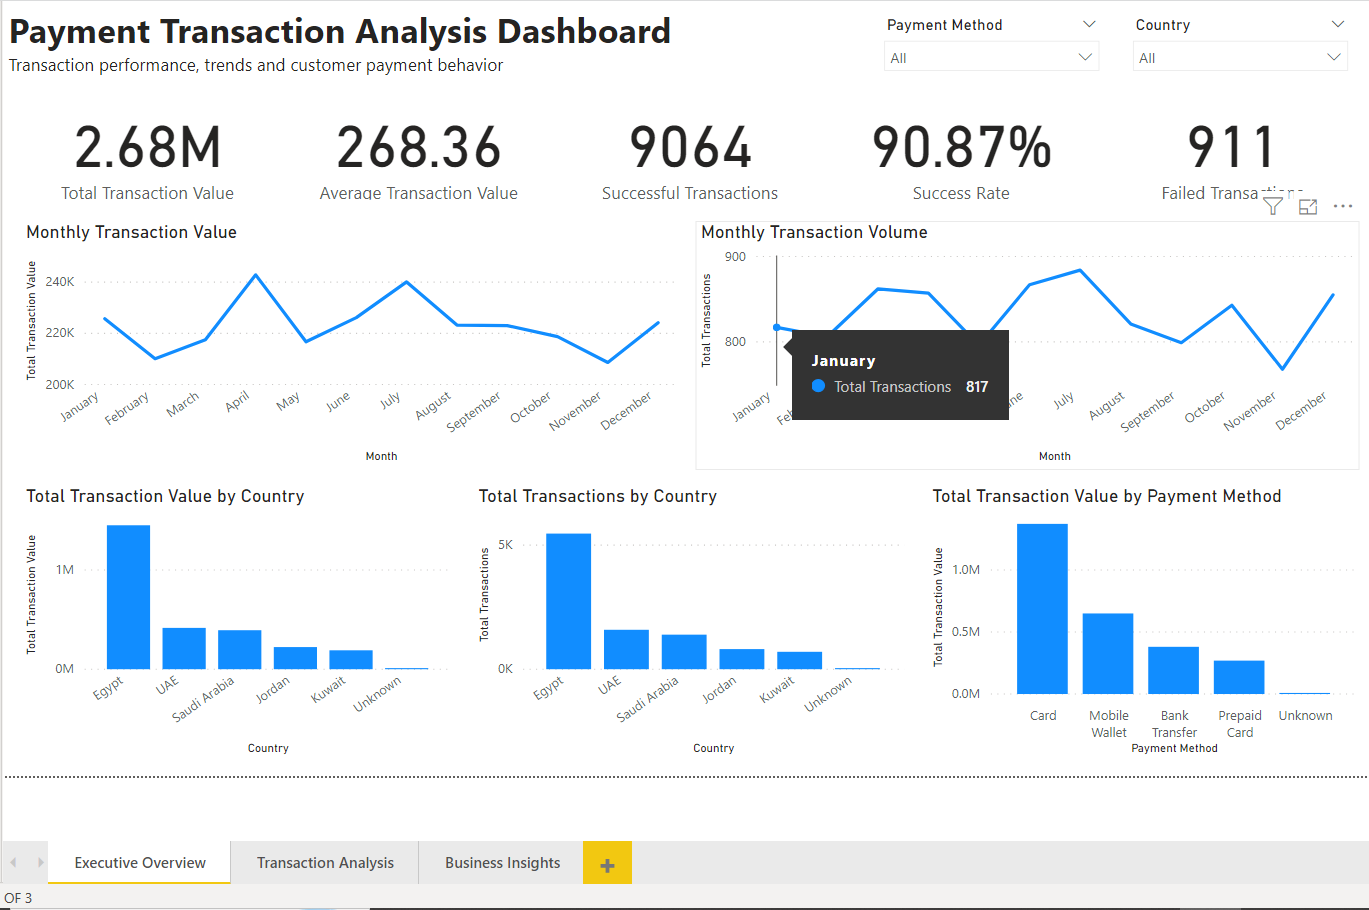

The page's visual inventory and layout, read from the dashboard file:
{"tool":"powerbi","page":{"name":"Executive Overview","canvas":[1280,720],"ordinal":0},"visuals":[{"type":"card","fields":{"Values":["Transactions.Successful Transactions"]},"box":[520,90,236,100],"z":0},{"type":"card","fields":{"Values":["Transactions.Success Rate"]},"box":[772,90,236,100],"z":1000},{"type":"card","fields":{"Values":["Sheet1.Failed Transactions"]},"box":[1024,90,236,100],"z":2000},{"type":"card","fields":{"Values":["Sheet1.Average Transaction Value"]},"box":[268,90,236,100],"z":3000},{"type":"card","fields":{"Values":["Sheet1.Total Transaction Value"]},"box":[16,90,236,100],"z":4000},{"type":"clusteredColumnChart","fields":{"Category":["Sheet1.Payment_Method"],"Y":["Sheet1.Total Transaction Value"]},"box":[858,450,406,255],"z":5000},{"type":"clusteredColumnChart","fields":{"Category":["Sheet1.Country"],"Y":["Sheet1.Total Transaction Value"]},"box":[16,450,406,255],"z":6000},{"type":"clusteredColumnChart","fields":{"Category":["Sheet1.Country"],"Y":["Sheet1.Total Transactions"]},"box":[437,450,406,255],"z":7000},{"type":"lineChart","title":"Monthly Transaction Value","fields":{"Category":["Sheet1.Sheet 1.Variation.Date Hierarchy.Month"],"Y":["Sheet1.Total Transaction Value"]},"box":[16,205,616,230],"z":8000},{"type":"lineChart","title":"Monthly Transaction Volume","fields":{"Category":["Sheet1.Sheet 1.Variation.Date Hierarchy.Month"],"Y":["Sheet1.Total Transactions"]},"box":[644,205,616,230],"z":9000},{"type":"textbox","box":[0,0,659.7,88.3],"z":10000},{"type":"slicer","fields":{"Values":["Sheet1.Payment_Method"]},"box":[808,8,220,60],"z":11000},{"type":"slicer","fields":{"Values":["Sheet1.Country"]},"box":[1040,8,220,60],"z":12000}]}

Visuals, with their boxes on the page's 1280x720 design canvas (x1, y1, x2, y2). These are canvas units, not pixel positions in the 1369x910 screenshot, which may show the page scaled, cropped or inside an application window:
card - Transactions.Successful Transactions: <box>520,90,756,190</box>
card - Transactions.Success Rate: <box>772,90,1008,190</box>
card - Sheet1.Failed Transactions: <box>1024,90,1260,190</box>
card - Sheet1.Average Transaction Value: <box>268,90,504,190</box>
card - Sheet1.Total Transaction Value: <box>16,90,252,190</box>
clusteredColumnChart - Sheet1.Payment_Method x Sheet1.Total Transaction Value: <box>858,450,1264,705</box>
clusteredColumnChart - Sheet1.Country x Sheet1.Total Transaction Value: <box>16,450,422,705</box>
clusteredColumnChart - Sheet1.Country x Sheet1.Total Transactions: <box>437,450,843,705</box>
"Monthly Transaction Value" lineChart: <box>16,205,632,435</box>
"Monthly Transaction Volume" lineChart: <box>644,205,1260,435</box>
textbox: <box>0,0,660,88</box>
slicer - Sheet1.Payment_Method: <box>808,8,1028,68</box>
slicer - Sheet1.Country: <box>1040,8,1260,68</box>
